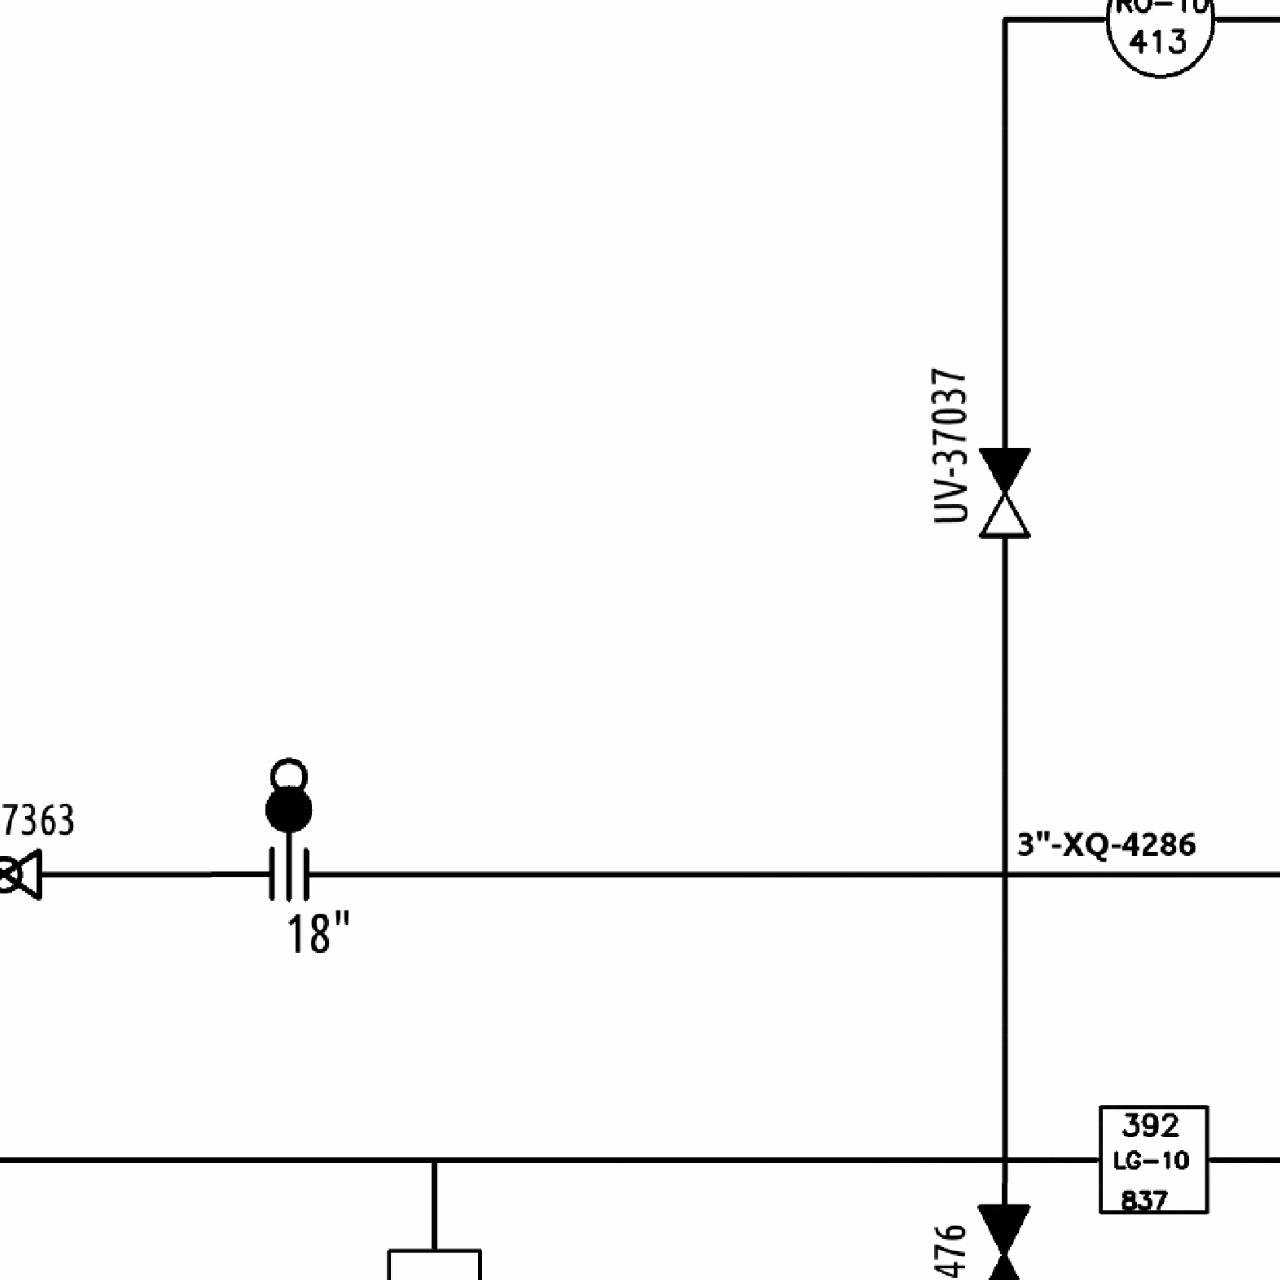Half closed valve: (974, 442, 1034, 542)
